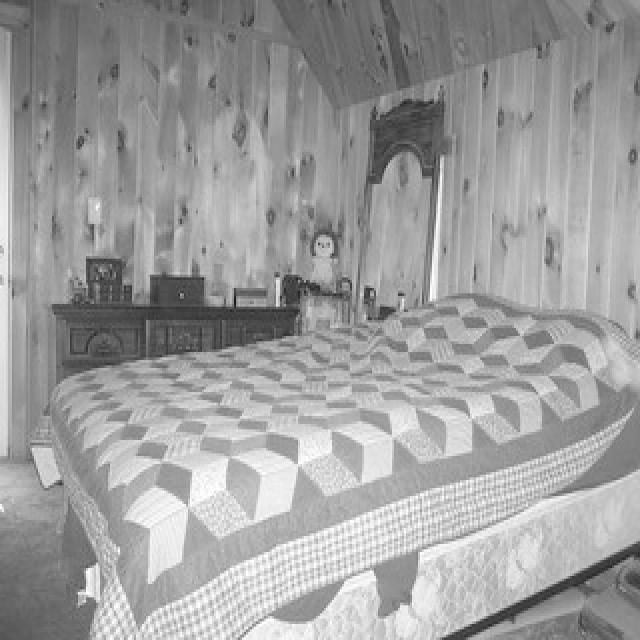bed: (41, 299, 638, 640)
